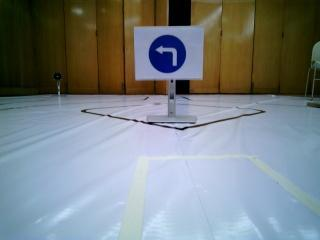left: (135, 28, 199, 76)
